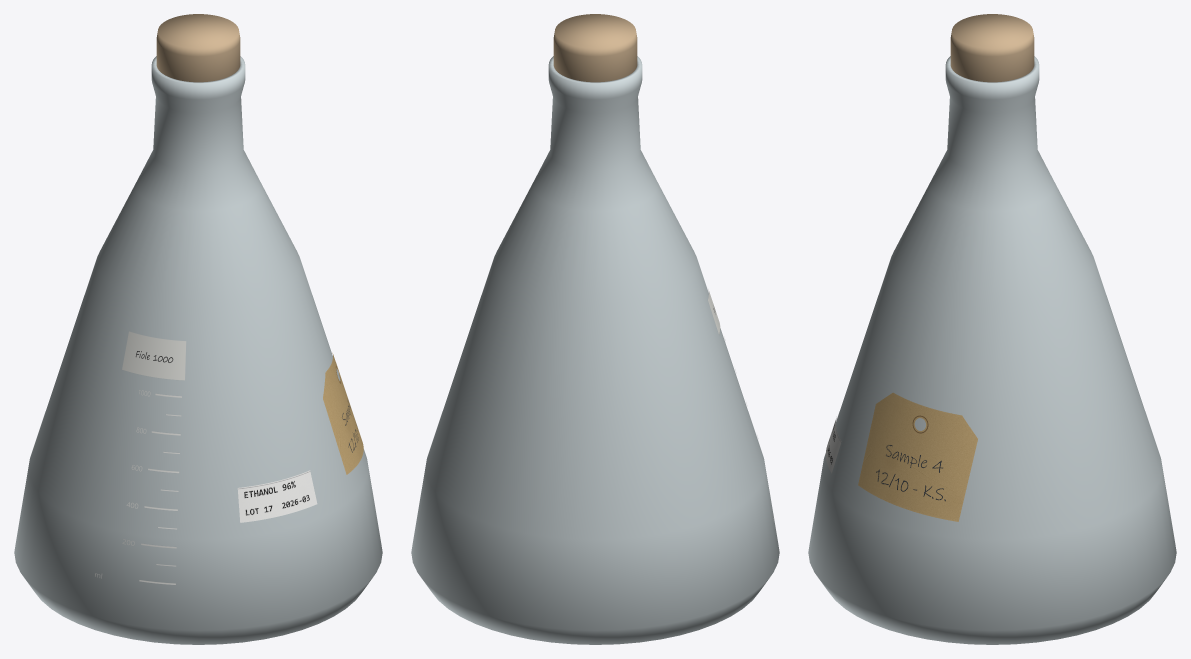
The model's file is flask_lab.glb.
3 renders of one model, left to right at view 1: azimuth 30°, elevation 25°; view 2: azimuth 150°, elevation 25°; view 3: azimuth 270°, elevation 25°, orthographic.
Parts seen in each view (by area): view 1: Glass, Cap, Label_grad, Label_tag, Label_tag_hand; view 2: Glass, Cap; view 3: Glass, Label_tag_hand, Cap.
Part boxes in pixels (left/top/right/bottom): Glass: left=14, top=56, right=382, bottom=644; Cap: left=156, top=14, right=240, bottom=82; Label_grad: left=95, top=331, right=186, bottom=584; Label_tag: left=237, top=470, right=317, bottom=522; Label_tag_hand: left=323, top=353, right=363, bottom=474; Glass: left=411, top=56, right=779, bottom=644; Cap: left=553, top=14, right=637, bottom=82; Glass: left=808, top=56, right=1176, bottom=644; Label_tag_hand: left=858, top=392, right=977, bottom=521; Cap: left=950, top=14, right=1034, bottom=82.
Size of the model in its own units: 0.13 by 0.215 by 0.13.
Materials: 6 (3 with a texture image).
